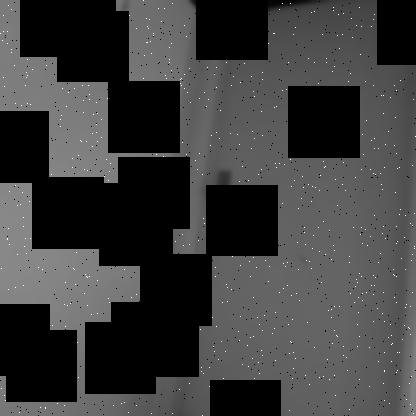Porte: (142, 1, 415, 415)
